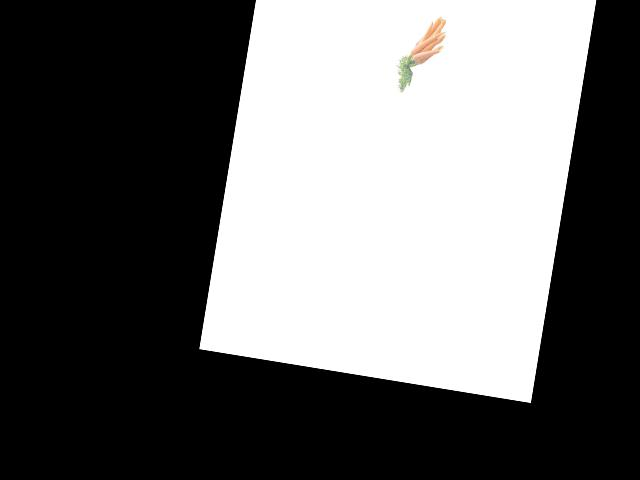carrot: (414, 47, 450, 69)
